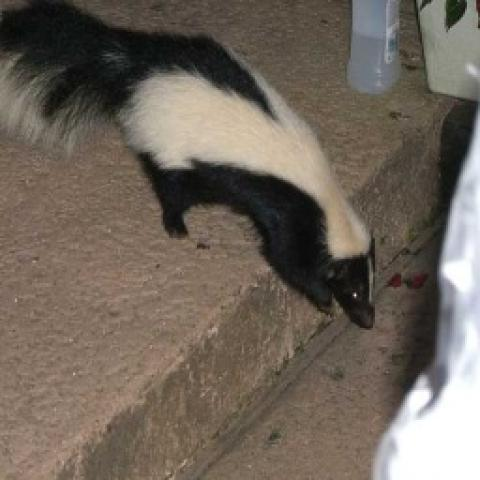small_animal: (0, 0, 381, 332)
